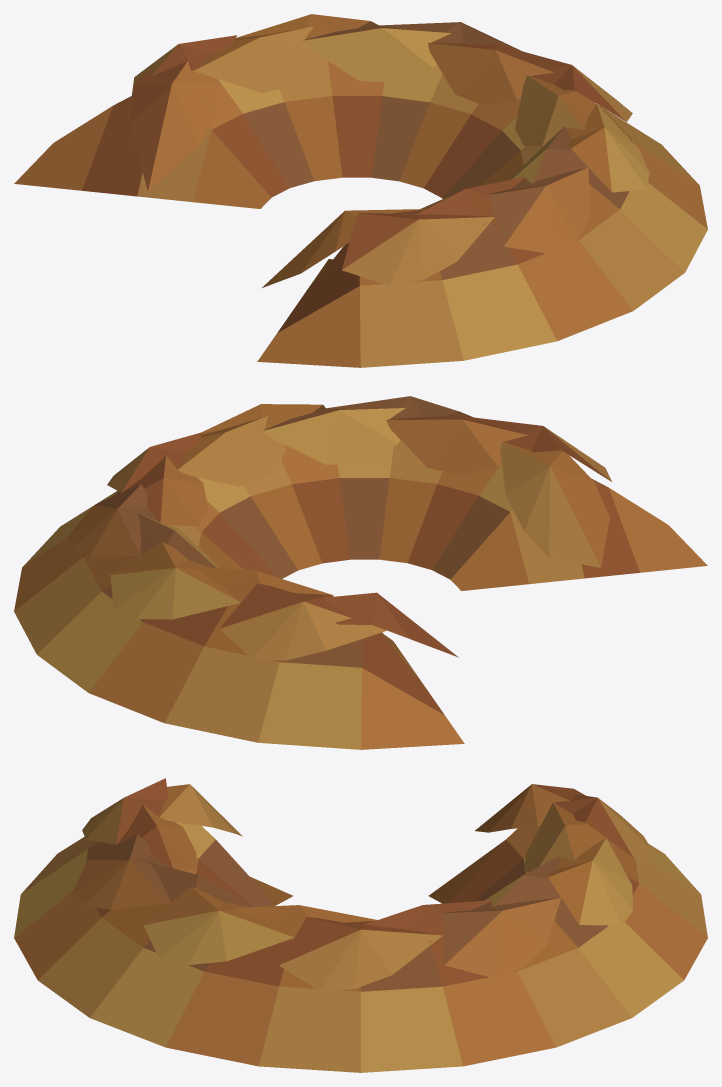
Rendered from AutumnLeafPileCrescent.glb.
3 views of the same model, one above another, from view 1: azimuth 30°, elevation 25°; view 2: azimuth 150°, elevation 25°; view 3: azimuth 270°, elevation 25° (orthographic).
Visible parts, largest first — view 1: AutumnLeafPileCrescent_Leaves; view 2: AutumnLeafPileCrescent_Leaves; view 3: AutumnLeafPileCrescent_Leaves.
Part boxes in pixels (x1,y1,x2,y2): AutumnLeafPileCrescent_Leaves: [14, 14, 707, 367]; AutumnLeafPileCrescent_Leaves: [14, 396, 707, 749]; AutumnLeafPileCrescent_Leaves: [14, 778, 707, 1072].
Bounding box in the file's own units: 0.6464 × 0.1224 × 0.7474.
